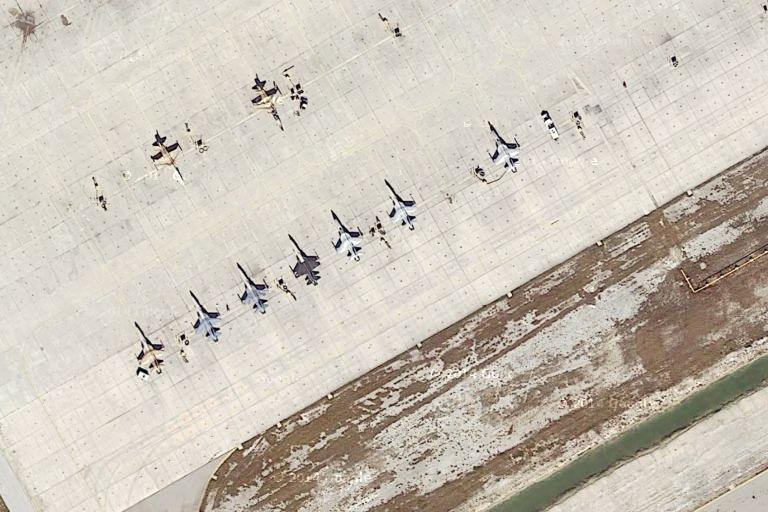F-16: (128, 319, 170, 378), (326, 207, 367, 265), (248, 77, 289, 134), (148, 131, 189, 187), (234, 260, 274, 317), (186, 288, 226, 345), (484, 118, 523, 176), (284, 231, 323, 287), (379, 178, 419, 231)
